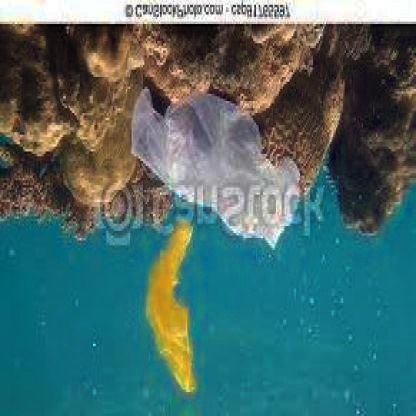pbag: (129, 84, 300, 255), (146, 219, 199, 397)
